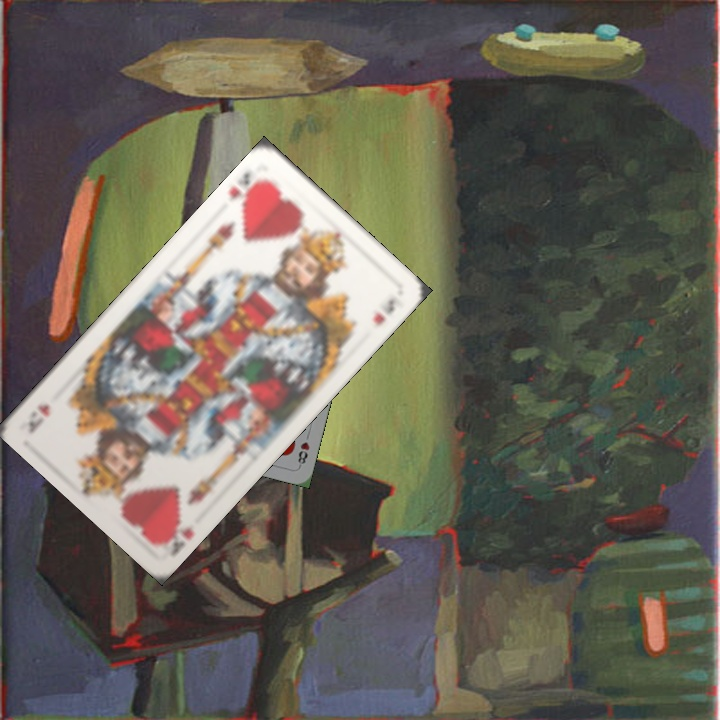H8: (294, 437, 312, 469)
HK: (166, 511, 197, 559), (224, 167, 258, 209)
